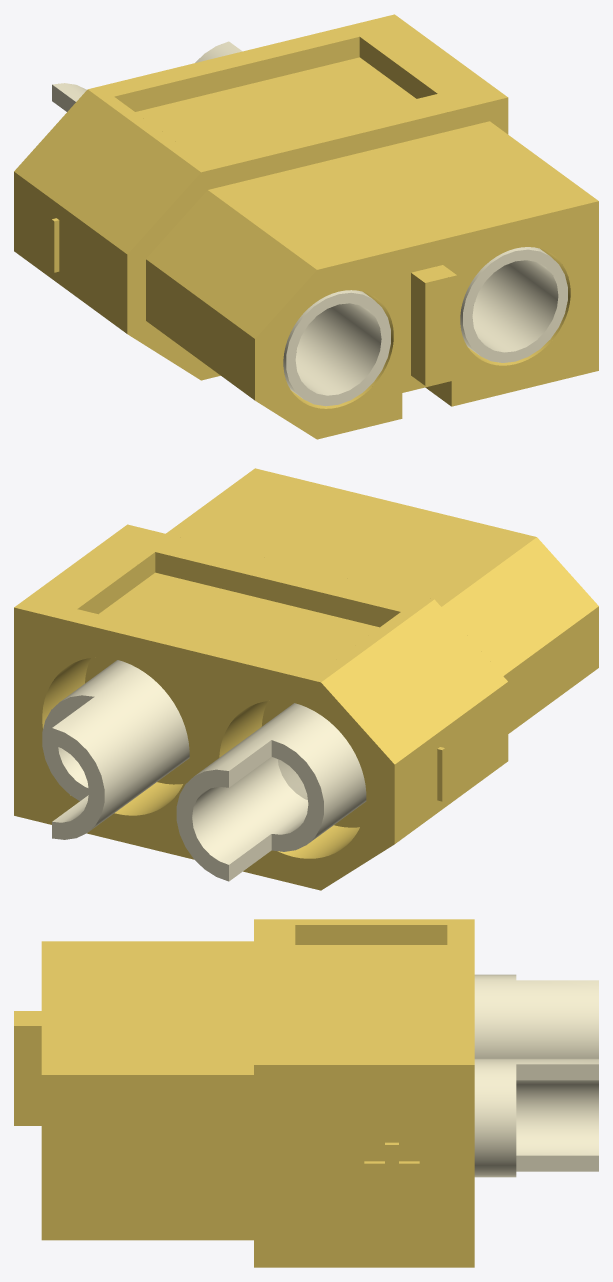
Rendered from AMASS_XT60-F_1x02_P7.2mm_Vertical.glb.
3 renders of one model, top to bottom at view 1: azimuth 30°, elevation 25°; view 2: azimuth 150°, elevation 25°; view 3: azimuth 270°, elevation 25°, orthographic. The views are drawn at different scales.
Visible parts, largest first — view 1: Shape_IndexedFaceSet.051, Shape_IndexedFaceSet.046, Shape_IndexedFaceSet.058, Shape_IndexedFaceSet.057, Shape_IndexedFaceSet.004, Shape_IndexedFaceSet.050, Shape_IndexedFaceSet.060, Shape_IndexedFaceSet.056, Shape_IndexedFaceSet.049, Shape_IndexedFaceSet.080, Shape_IndexedFaceSet.070, Shape_IndexedFaceSet.002 (+9 smaller); view 2: Shape_IndexedFaceSet.061, Shape_IndexedFaceSet.051, Shape_IndexedFaceSet.058, Shape_IndexedFaceSet.057, Shape_IndexedFaceSet.004, Shape_IndexedFaceSet.069, Shape_IndexedFaceSet.050, Shape_IndexedFaceSet.056, Shape_IndexedFaceSet.074, Shape_IndexedFaceSet.079, Shape_IndexedFaceSet.049, Shape_IndexedFaceSet (+12 smaller); view 3: Shape_IndexedFaceSet.059, Shape_IndexedFaceSet.052, Shape_IndexedFaceSet.051, Shape_IndexedFaceSet.004, Shape_IndexedFaceSet.058, Shape_IndexedFaceSet.079, Shape_IndexedFaceSet.062, Shape_IndexedFaceSet.069, Shape_IndexedFaceSet.003, Shape_IndexedFaceSet.038, Shape_IndexedFaceSet.066, Shape_IndexedFaceSet.067 (+1 smaller).
Part boxes in pixels (x1=…): Shape_IndexedFaceSet.051: x1=208, y1=121, x2=598, y2=269; Shape_IndexedFaceSet.046: x1=255, y1=201, x2=598, y2=439; Shape_IndexedFaceSet.058: x1=88, y1=14, x2=507, y2=172; Shape_IndexedFaceSet.057: x1=14, y1=89, x2=200, y2=254; Shape_IndexedFaceSet.004: x1=135, y1=57, x2=416, y2=153; Shape_IndexedFaceSet.050: x1=146, y1=190, x2=316, y2=338; Shape_IndexedFaceSet.060: x1=127, y1=97, x2=508, y2=380; Shape_IndexedFaceSet.056: x1=14, y1=172, x2=127, y2=333; Shape_IndexedFaceSet.049: x1=146, y1=259, x2=254, y2=400; Shape_IndexedFaceSet.080: x1=295, y1=303, x2=381, y2=395; Shape_IndexedFaceSet.070: x1=472, y1=260, x2=558, y2=352; Shape_IndexedFaceSet.002: x1=114, y1=37, x2=359, y2=111; Shape_IndexedFaceSet.061: x1=14, y1=607, x2=394, y2=890; Shape_IndexedFaceSet.051: x1=166, y1=468, x2=536, y2=606; Shape_IndexedFaceSet.058: x1=14, y1=524, x2=433, y2=682; Shape_IndexedFaceSet.057: x1=321, y1=599, x2=507, y2=764; Shape_IndexedFaceSet.004: x1=99, y1=572, x2=379, y2=668; Shape_IndexedFaceSet.069: x1=52, y1=660, x2=189, y2=831; Shape_IndexedFaceSet.050: x1=441, y1=537, x2=598, y2=675; Shape_IndexedFaceSet.056: x1=394, y1=682, x2=508, y2=843; Shape_IndexedFaceSet.074: x1=192, y1=756, x2=308, y2=864; Shape_IndexedFaceSet.079: x1=195, y1=703, x2=366, y2=843; Shape_IndexedFaceSet.049: x1=503, y1=606, x2=598, y2=733; Shape_IndexedFaceSet: x1=155, y1=552, x2=400, y2=627; Shape_IndexedFaceSet.059: x1=254, y1=1065, x2=474, y2=1267; Shape_IndexedFaceSet.052: x1=41, y1=1075, x2=253, y2=1240; Shape_IndexedFaceSet.051: x1=41, y1=941, x2=253, y2=1074; Shape_IndexedFaceSet.004: x1=295, y1=945, x2=447, y2=1041; Shape_IndexedFaceSet.058: x1=254, y1=919, x2=474, y2=1064; Shape_IndexedFaceSet.079: x1=474, y1=974, x2=598, y2=1058; Shape_IndexedFaceSet.062: x1=516, y1=1080, x2=598, y2=1155; Shape_IndexedFaceSet.069: x1=474, y1=1058, x2=598, y2=1177; Shape_IndexedFaceSet.003: x1=295, y1=925, x2=447, y2=944; Shape_IndexedFaceSet.038: x1=14, y1=1026, x2=41, y2=1125; Shape_IndexedFaceSet.066: x1=516, y1=1155, x2=598, y2=1171; Shape_IndexedFaceSet.067: x1=516, y1=1064, x2=598, y2=1080.
Bounding box in the file's own units: 6.26 × 3.19 × 8.35.
